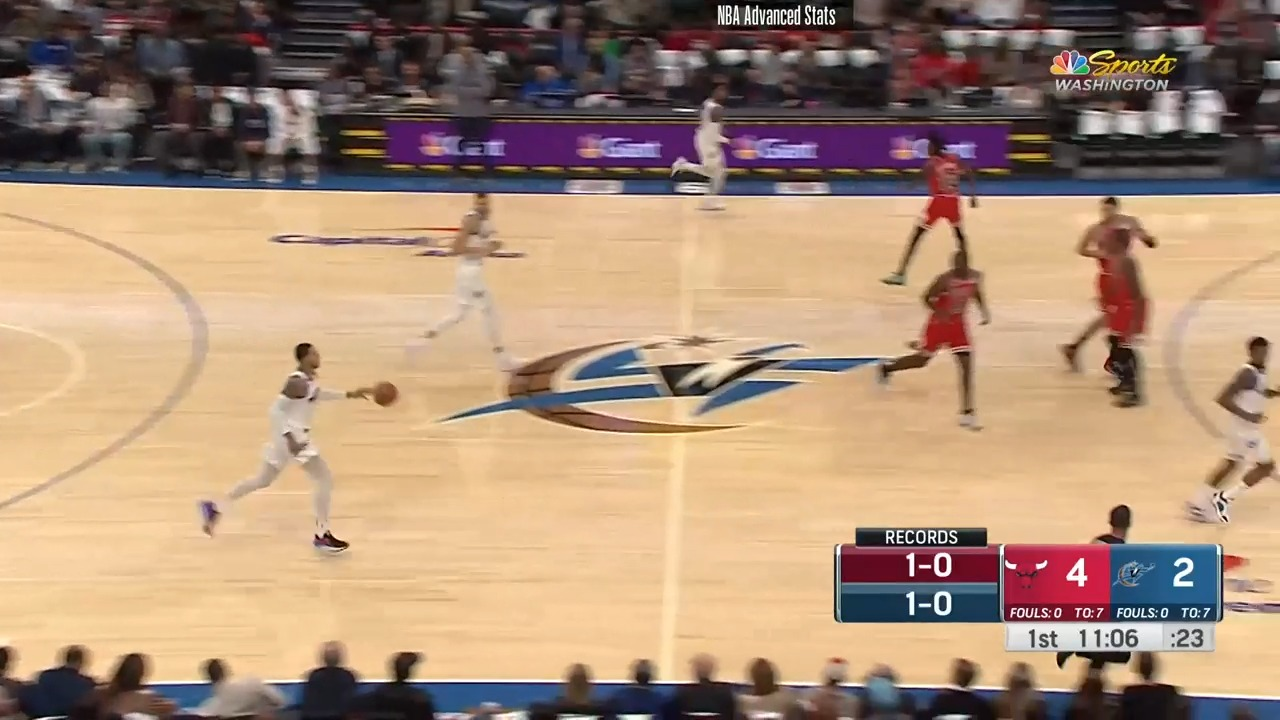player: (205, 342, 374, 562), (398, 193, 524, 383), (866, 248, 994, 433), (1051, 192, 1161, 369), (1184, 335, 1280, 533), (875, 134, 985, 293), (663, 83, 743, 212), (1098, 224, 1151, 415)
